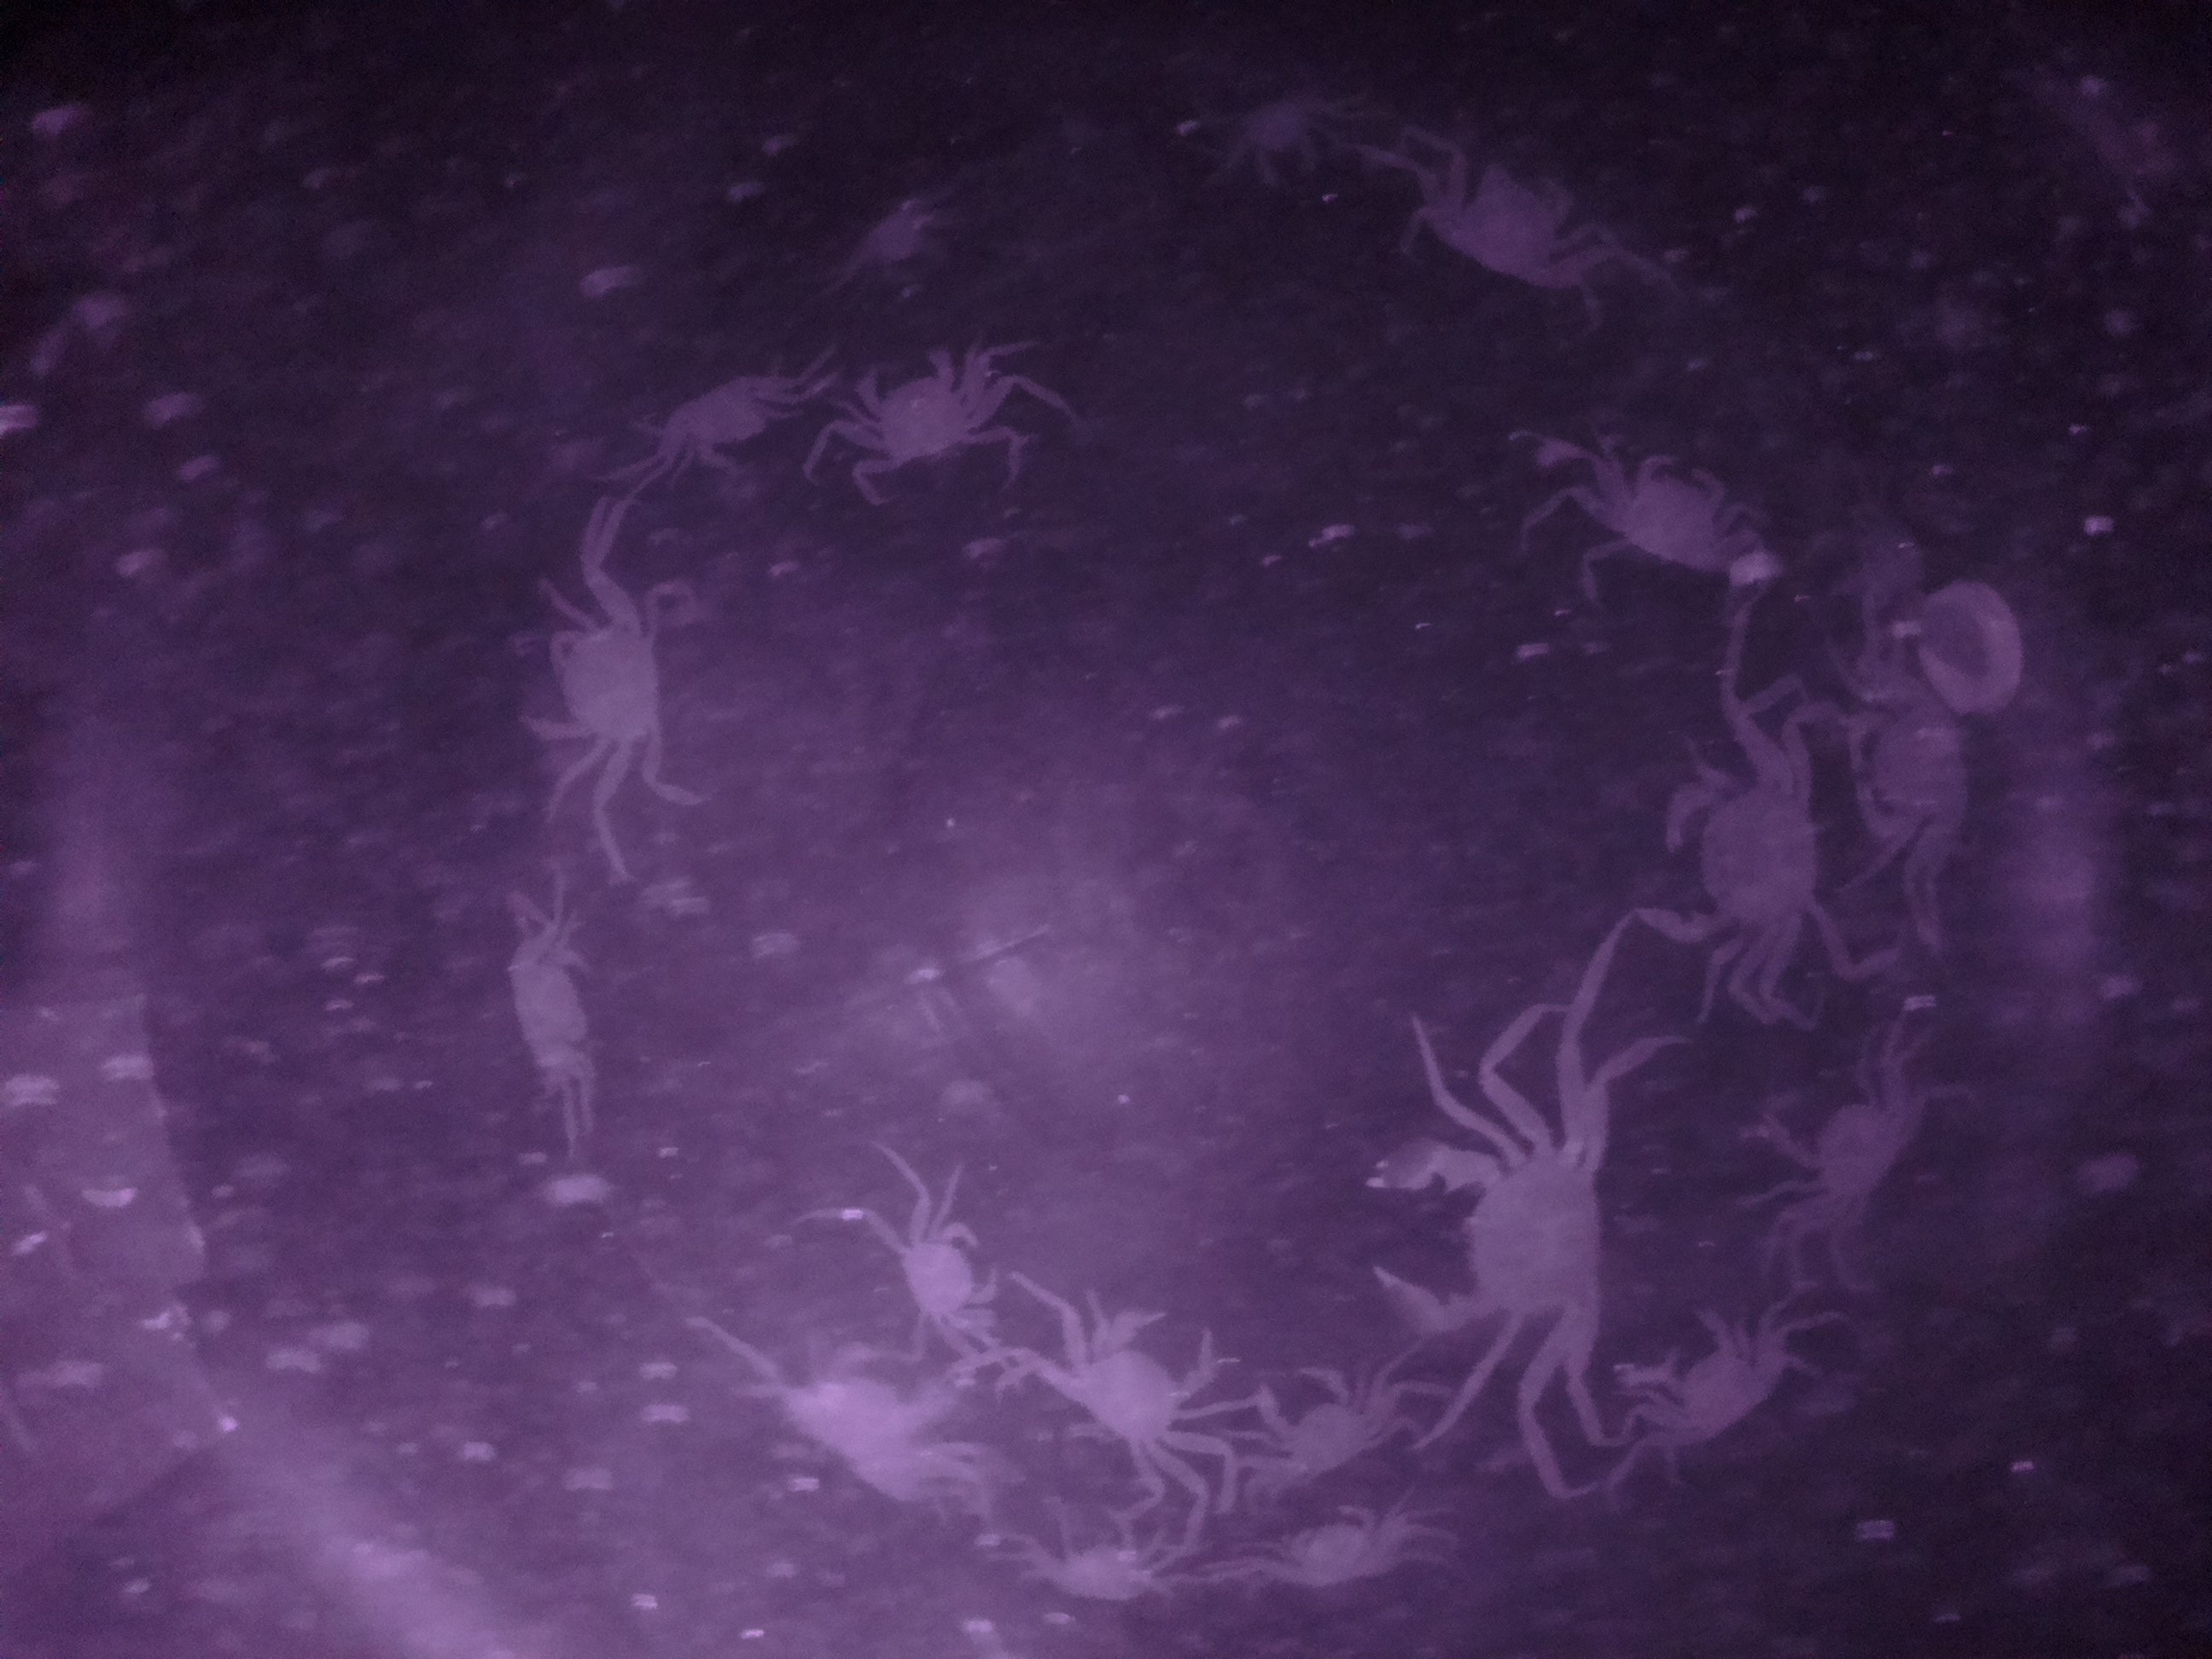Crab: (1359, 1105, 1639, 1338), (1639, 742, 1843, 962), (1411, 129, 1639, 303), (1768, 1030, 1940, 1260), (1035, 1295, 1226, 1464), (523, 577, 693, 760), (1623, 1290, 1787, 1466), (484, 911, 622, 1098), (1583, 446, 1764, 587), (834, 329, 991, 476), (1245, 1351, 1392, 1500), (864, 1202, 1012, 1347)
